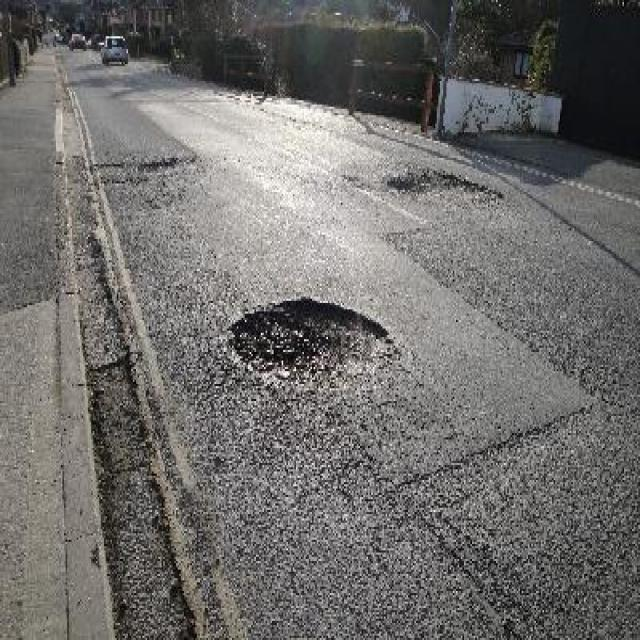pothole: (224, 292, 402, 390), (389, 166, 507, 205)
